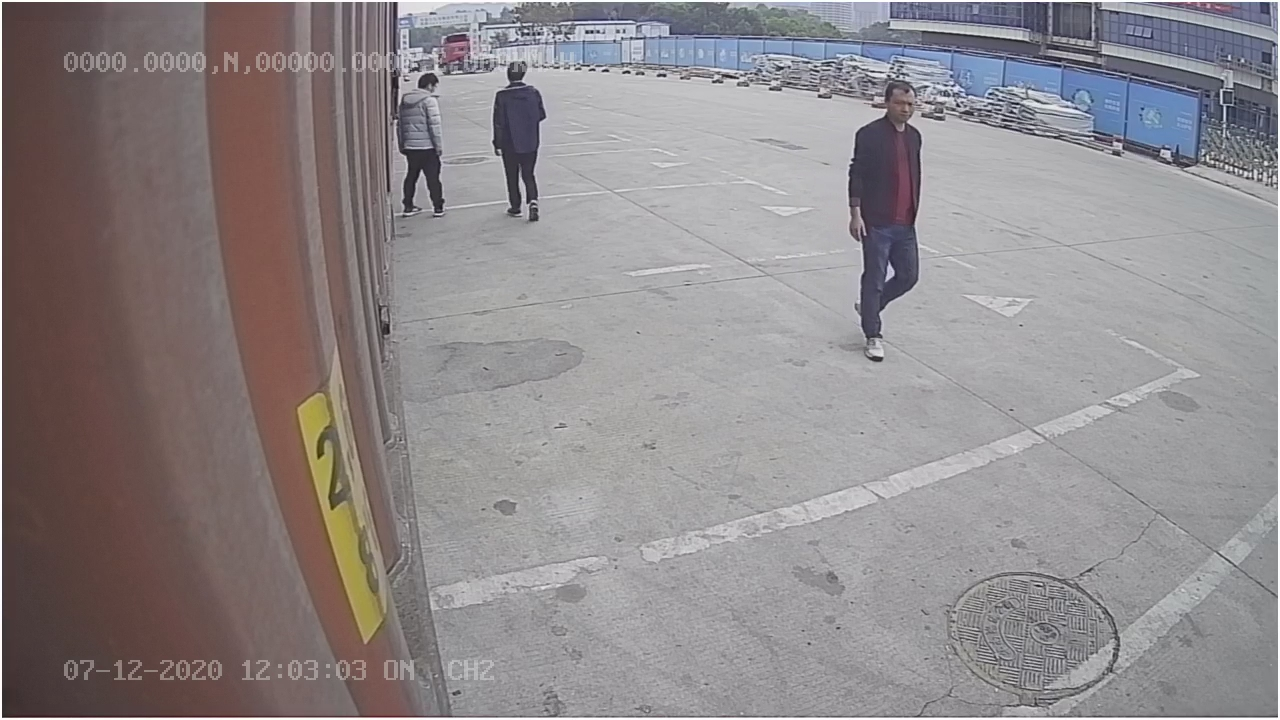person: (844, 80, 936, 362)
